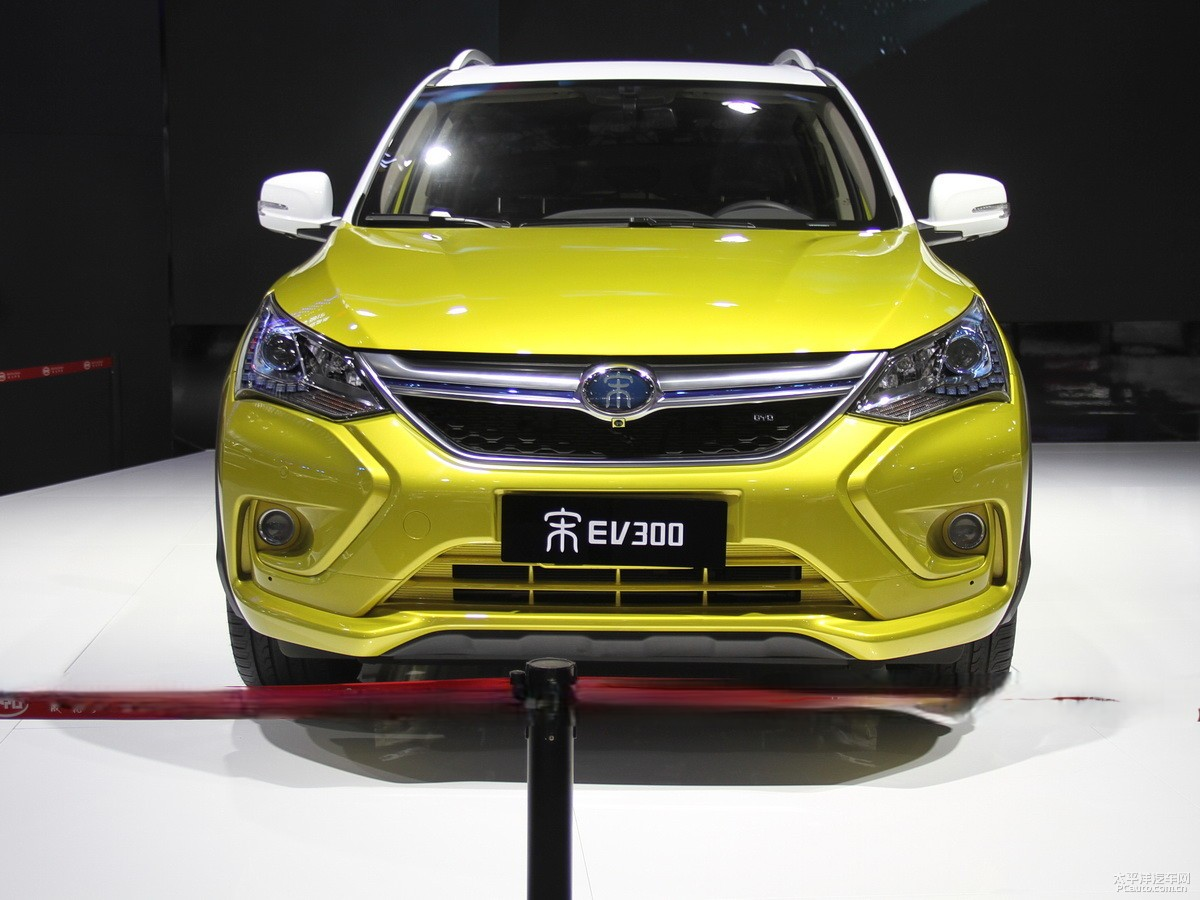BYD Song: (583, 367, 654, 415)
